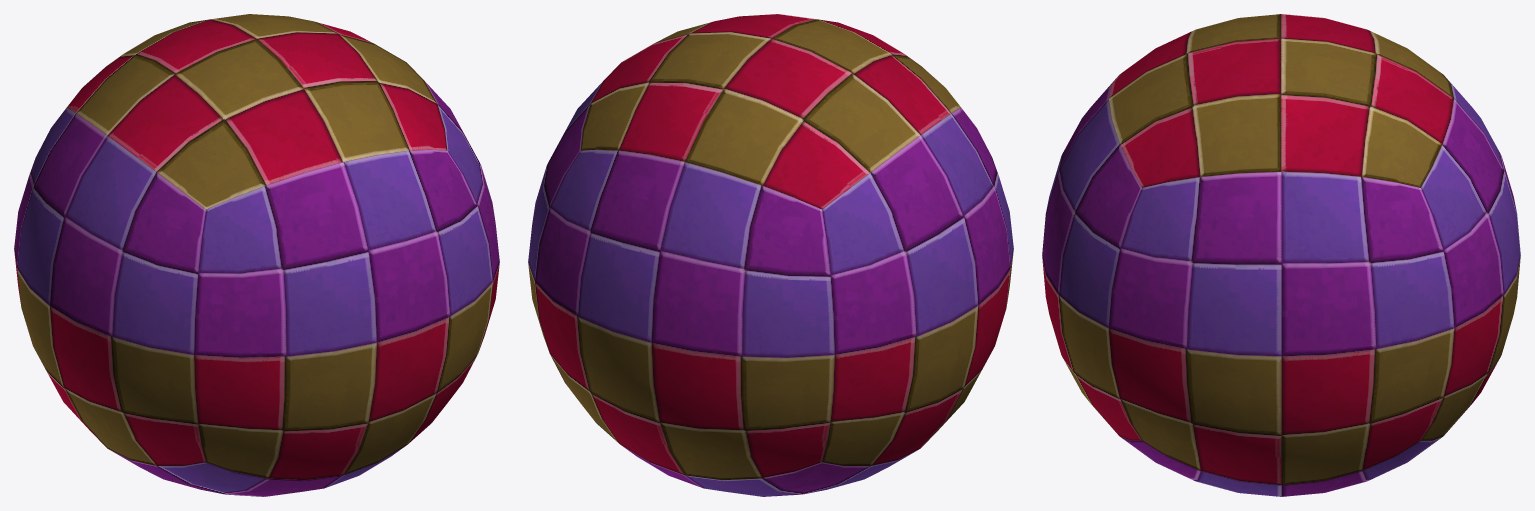
Rendered from HikeGardenBonusPlanet.fbx.
3 renders of one model, left to right at view 1: azimuth 30°, elevation 25°; view 2: azimuth 150°, elevation 25°; view 3: azimuth 270°, elevation 25°, orthographic.
Visible parts, largest first — view 1: mesh-1.001, mesh-1; view 2: mesh-1.001, mesh-1; view 3: mesh-1.001, mesh-1.
Boxes of the visible parts, x1,y1,x2,y2 form: mesh-1.001: (14,14,499,480); mesh-1: (14,82,499,496); mesh-1.001: (528,14,1013,480); mesh-1: (528,82,1013,496); mesh-1.001: (1042,14,1520,484); mesh-1: (1042,78,1520,496).
Size of the model in its own units: 158125 by 158125 by 158125.
Materials: 2 (2 with a texture image).
